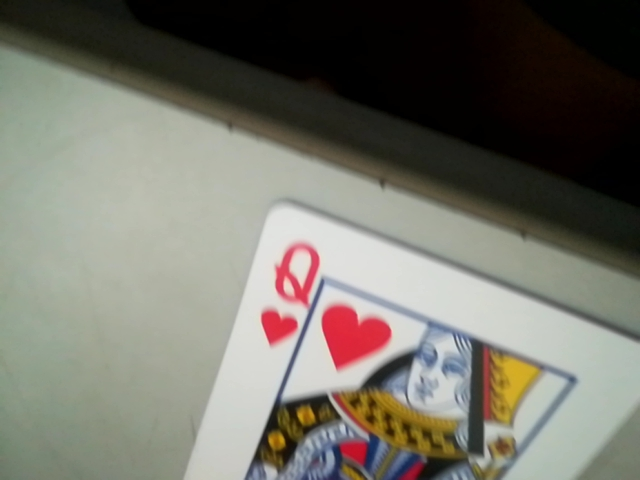hx q: (258, 238, 319, 358)
